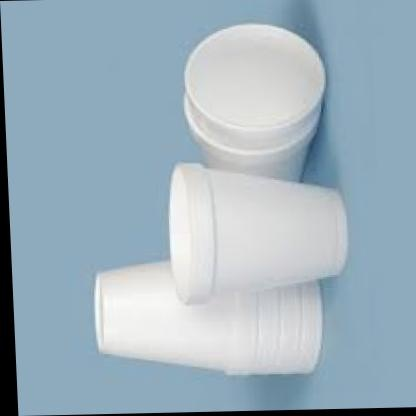trash: (95, 24, 347, 374), (95, 262, 321, 374), (169, 163, 347, 302), (184, 24, 324, 180)
